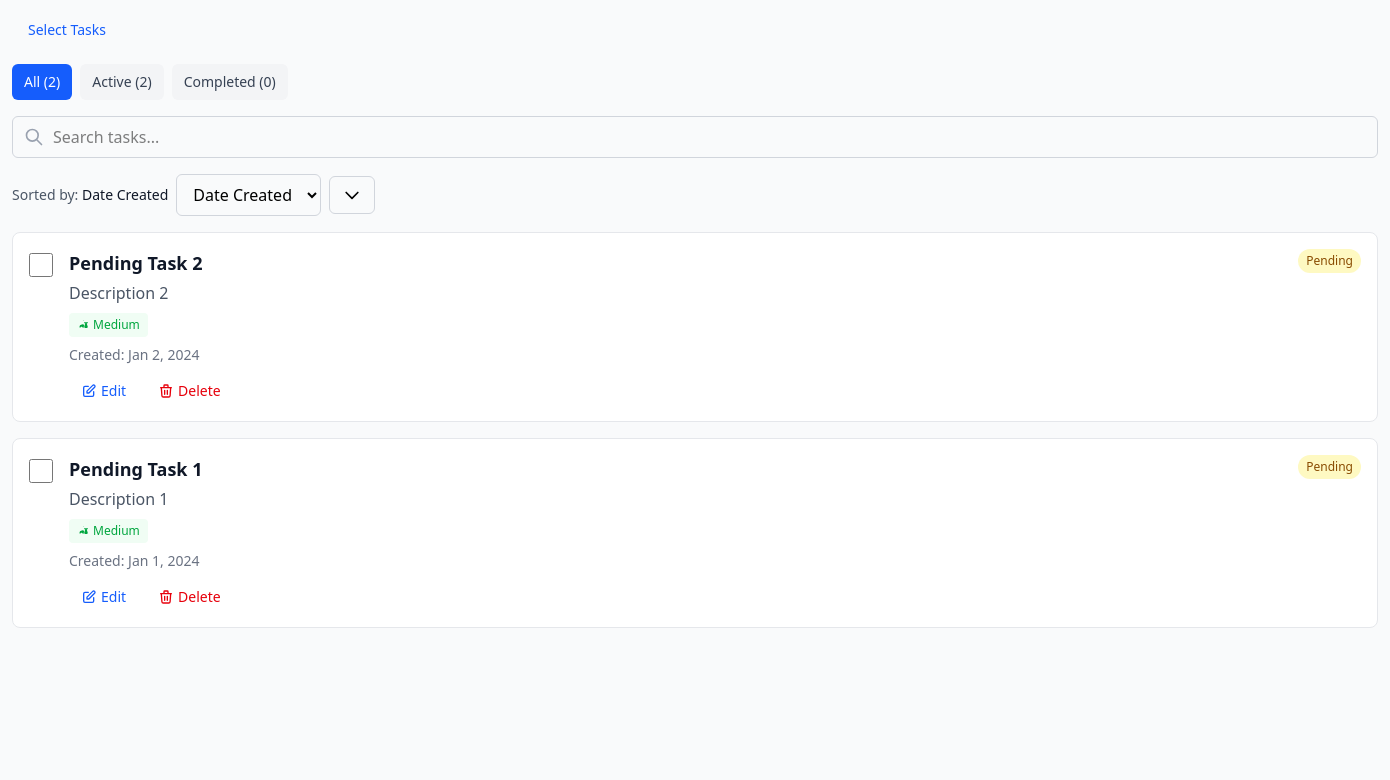
Test: User Story 2.2: Filter Tasks UI › Empty States › should show "No completed tasks" when Completed filter has no results
Step 1. Click the button "Completed (0)" → (230, 82), box [172,64,288,100]
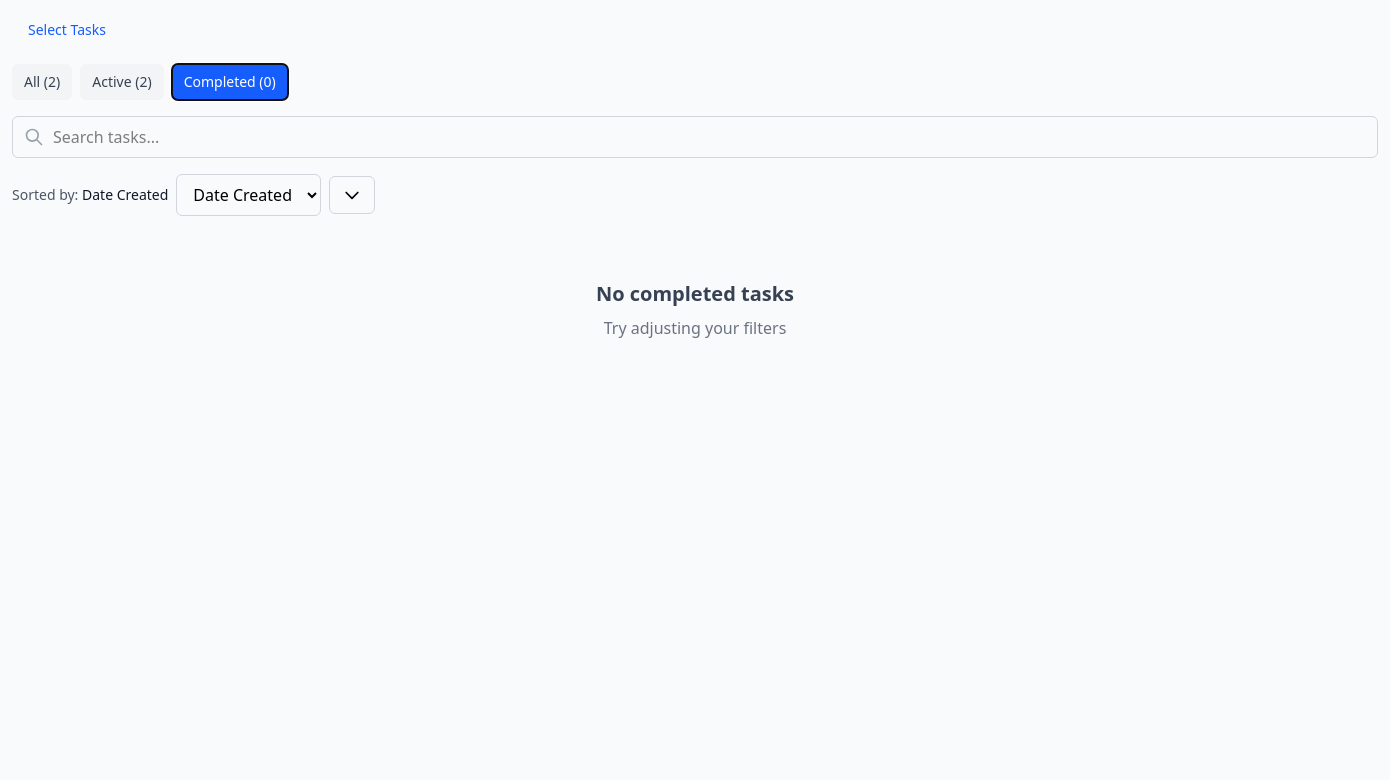
Check: the heading "No completed tasks" is shown, box [596,280,794,307]
